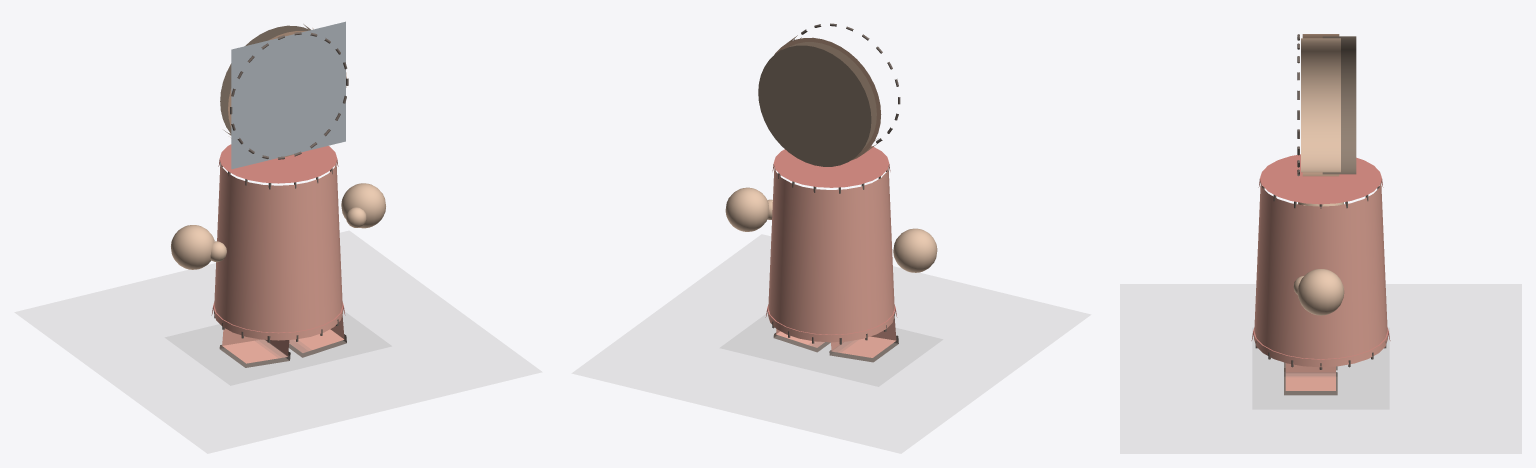
File: snug-avatar-template.glb
The picture shows the model from 3 angles, left to right: view 1: azimuth 30°, elevation 25°; view 2: azimuth 150°, elevation 25°; view 3: azimuth 270°, elevation 25°; orthographic projection. The views are drawn at different scales.
Visible parts, largest first — view 1: Ground_DoNotExport, BodyCore_Peg, FacePlaceholder_EdgeToEdge, ContactShadow_DoNotExport, CollarTrim, Palm_L, FootWedge_L, Palm_R, HeadBack_NoTint, FootWedge_R; view 2: Ground_DoNotExport, BodyCore_Peg, HeadBack_NoTint, ContactShadow_DoNotExport, CollarTrim, Palm_L, Palm_R, FootWedge_L, HeadCore_Coin, HeadRim; view 3: Ground_DoNotExport, BodyCore_Peg, ContactShadow_DoNotExport, HeadCore_Coin, CollarTrim, HeadBack_NoTint, Palm_R, FootWedge_R.
Boxes of the visible parts, box(x1,y1,x2,y2) form: Ground_DoNotExport: box(15, 231, 541, 453); BodyCore_Peg: box(214, 162, 342, 340); FacePlaceholder_EdgeToEdge: box(231, 21, 345, 169); ContactShadow_DoNotExport: box(166, 311, 390, 385); CollarTrim: box(218, 144, 338, 183); Palm_L: box(171, 225, 214, 269); FootWedge_L: box(222, 328, 289, 363); Palm_R: box(341, 183, 385, 228); HeadBack_NoTint: box(220, 24, 310, 135); FootWedge_R: box(289, 315, 344, 352); Ground_DoNotExport: box(573, 235, 1089, 452); BodyCore_Peg: box(768, 166, 894, 342); HeadBack_NoTint: box(758, 45, 871, 166); ContactShadow_DoNotExport: box(721, 314, 942, 386); CollarTrim: box(772, 146, 890, 187); Palm_L: box(893, 228, 937, 272); Palm_R: box(725, 187, 769, 231); FootWedge_L: box(831, 319, 896, 357); HeadCore_Coin: box(789, 37, 878, 148); HeadRim: box(774, 35, 881, 160); Ground_DoNotExport: box(1120, 284, 1521, 453); BodyCore_Peg: box(1254, 182, 1387, 367); ContactShadow_DoNotExport: box(1253, 328, 1388, 408); HeadCore_Coin: box(1301, 38, 1340, 172); CollarTrim: box(1258, 154, 1383, 204); HeadBack_NoTint: box(1322, 36, 1356, 174); Palm_R: box(1297, 269, 1344, 315); FootWedge_R: box(1285, 363, 1335, 390).
Size of the model in its own units: 2.4 by 2.19 by 2.4.
